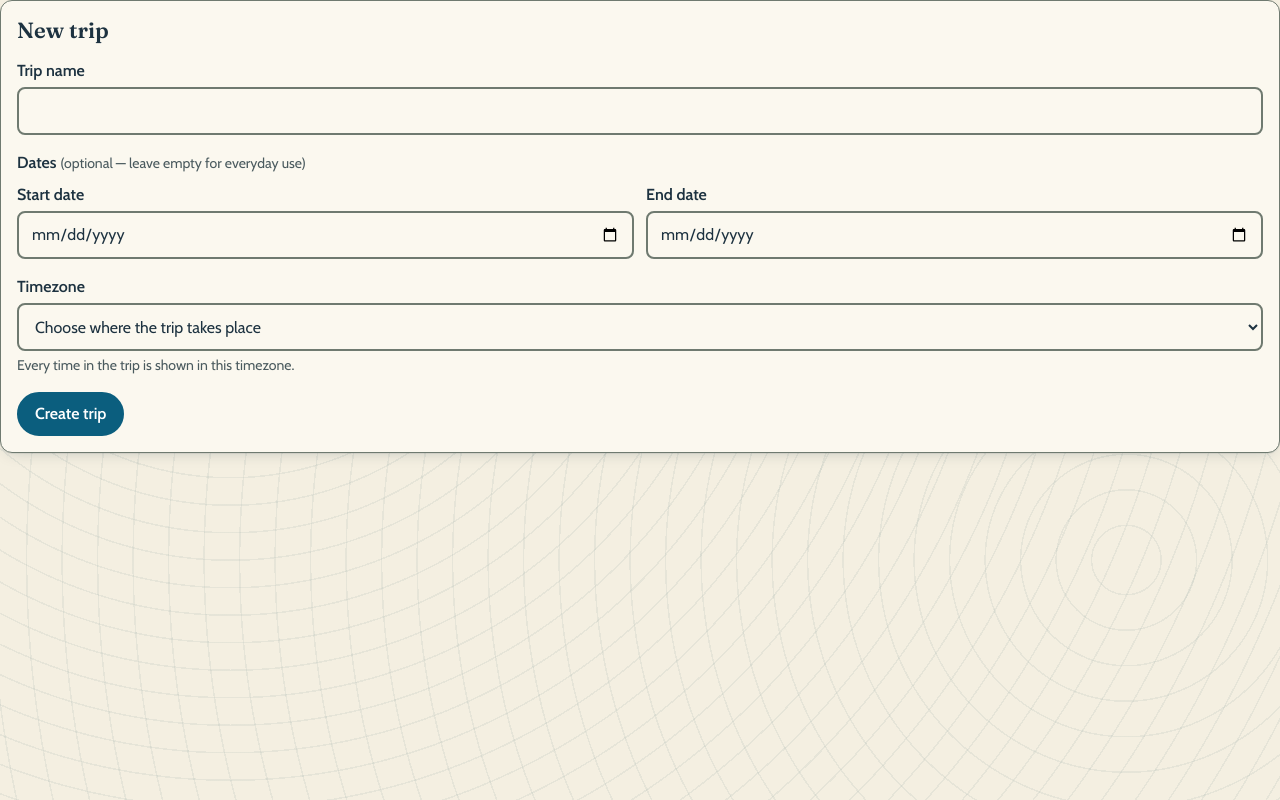
Test: creating a trip › a start date needs an end date
In the field labelled "Trip name": (640, 111) 17,87 -> 1263,135, type "Seoul"
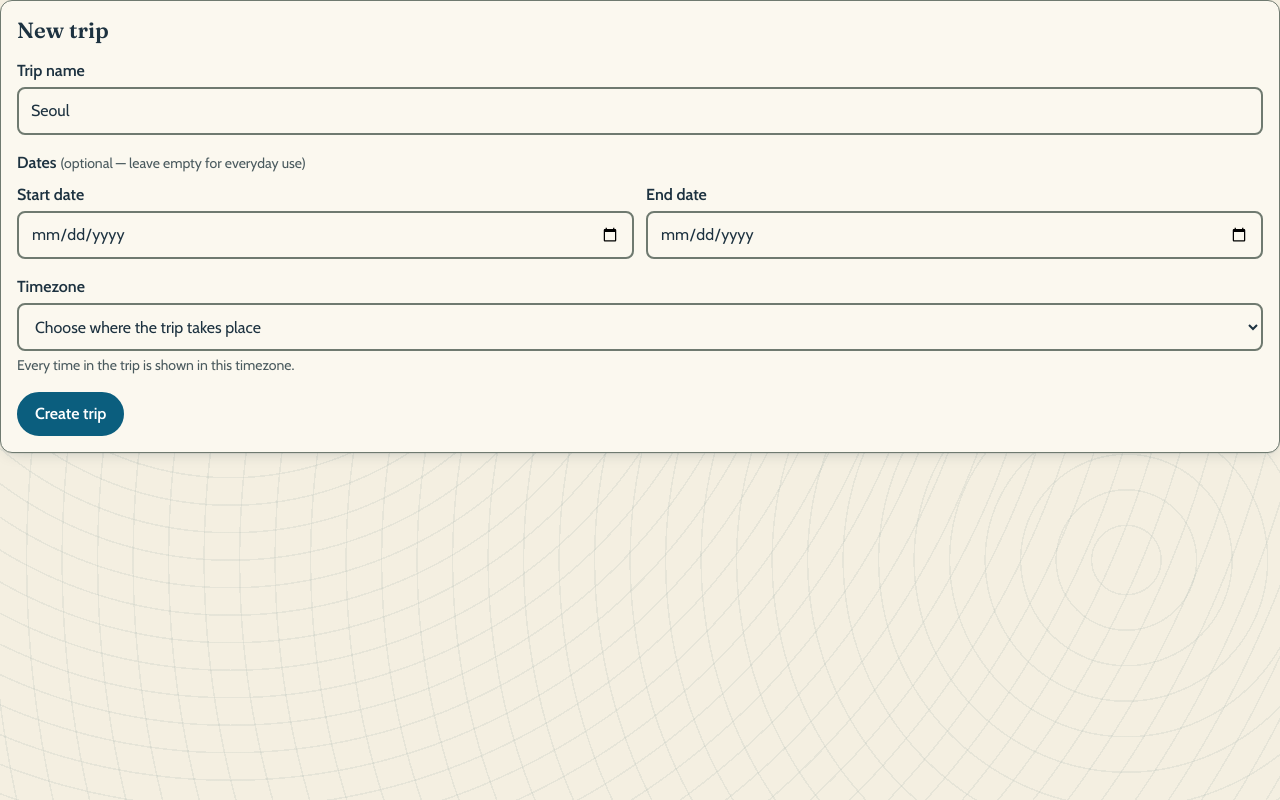
In the date field labelled "Start date": (326, 235) 17,211 -> 634,259, type "2026-12-20"
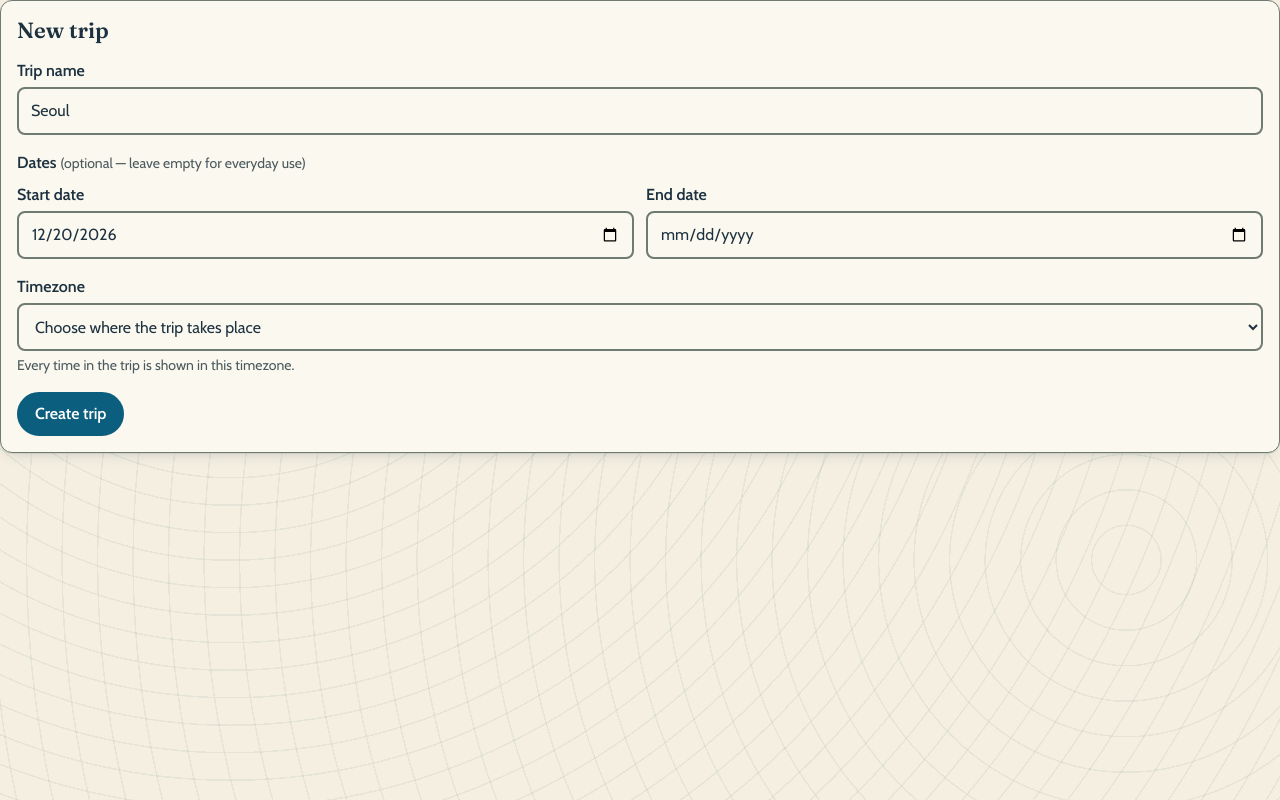
Submit the form, box 0,0 -> 1279,453
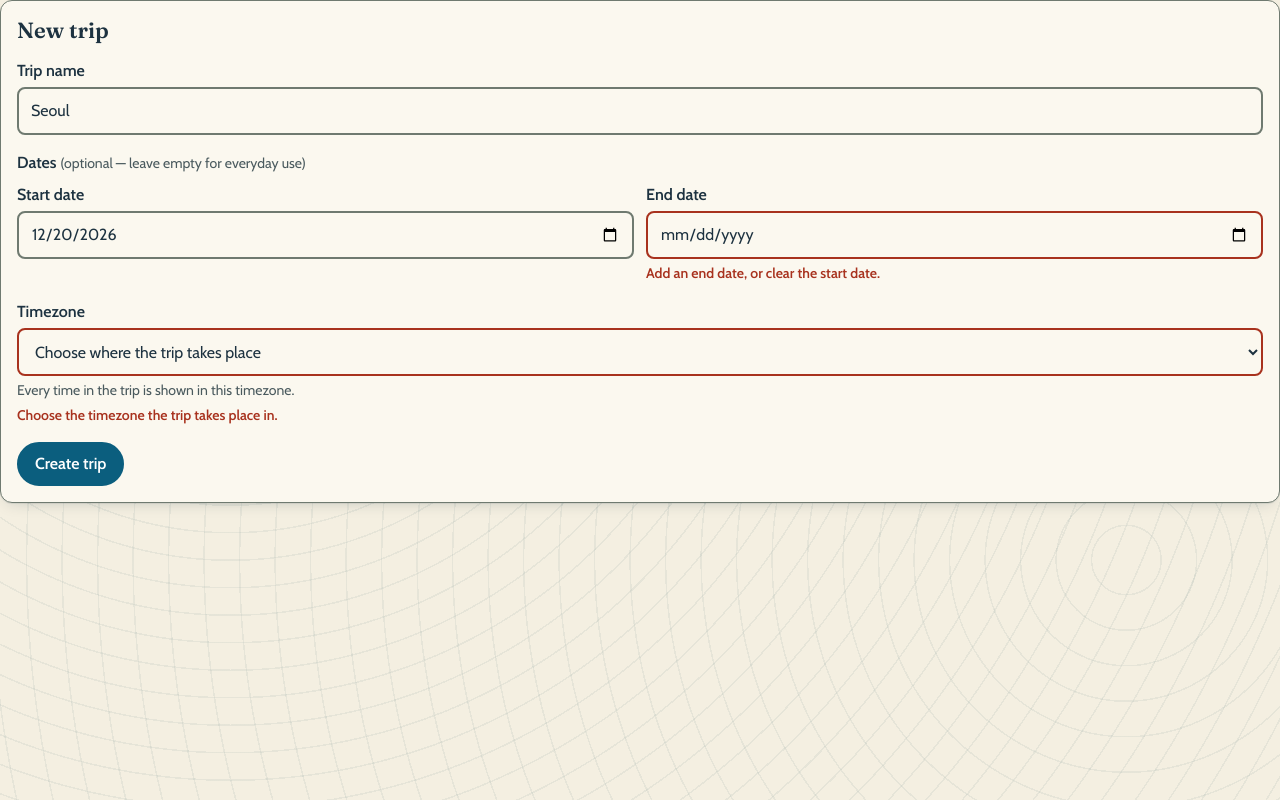
Expected: the form shows "Add an end date, or clear the start date.", 646,264 -> 880,282
